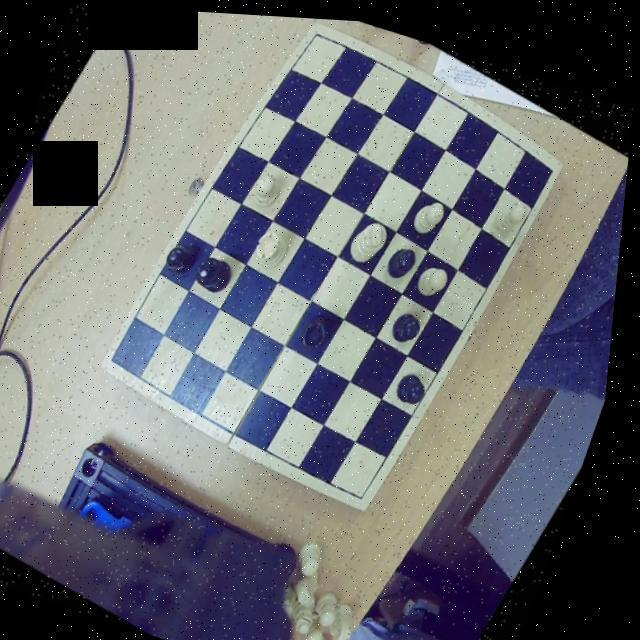chess-table-corners: (106, 341, 141, 375), (538, 148, 568, 183), (352, 476, 384, 508), (306, 16, 334, 48)
